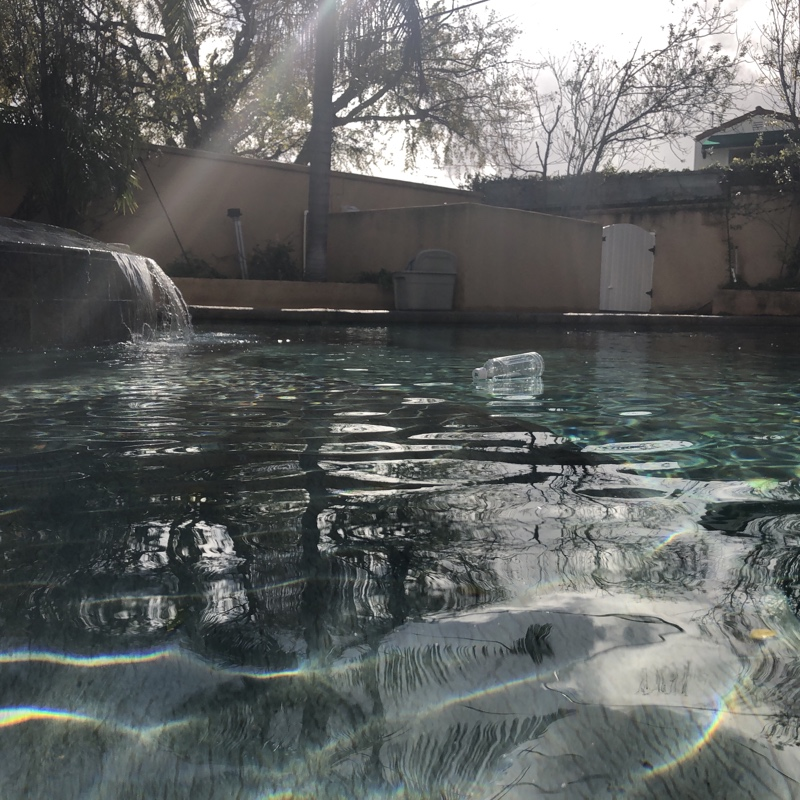Plastic Bottle: (471, 347, 544, 386)
